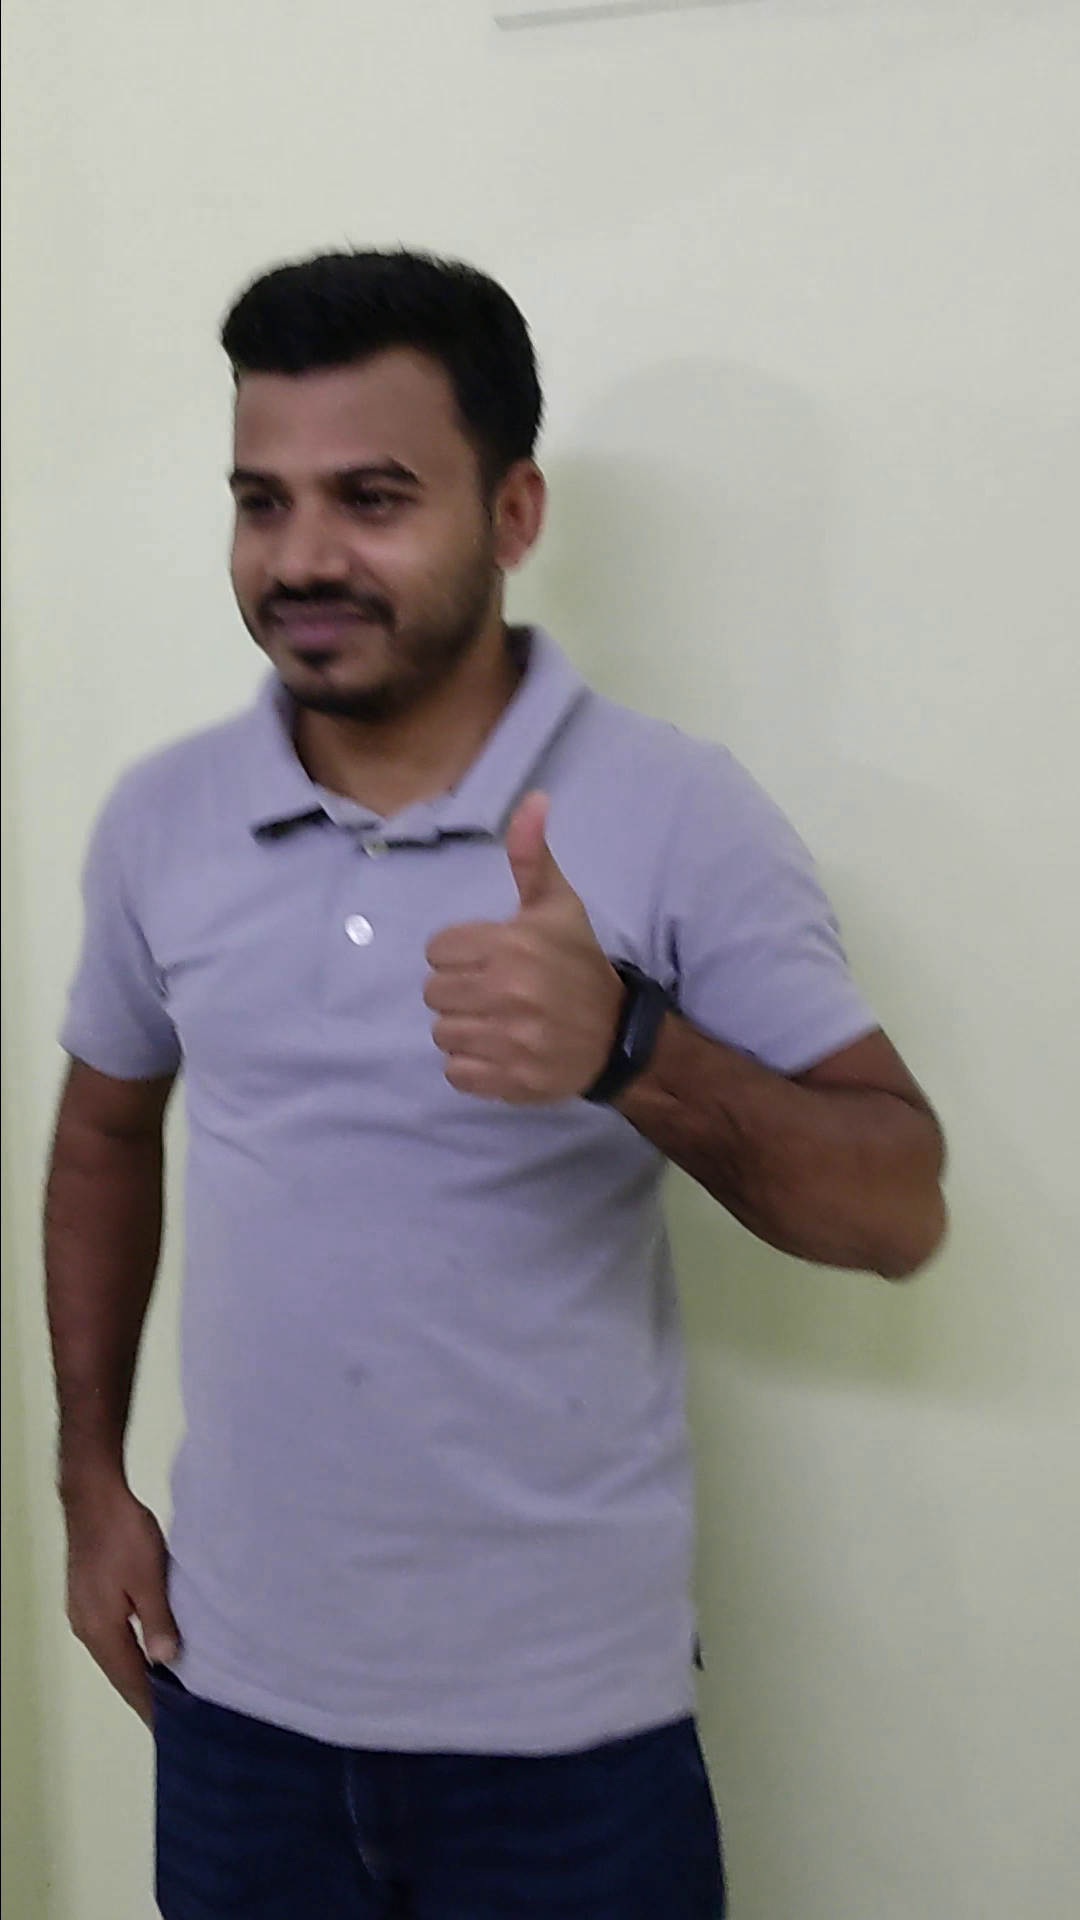Like: (397, 777, 637, 1118)
None: (51, 1458, 189, 1746)
